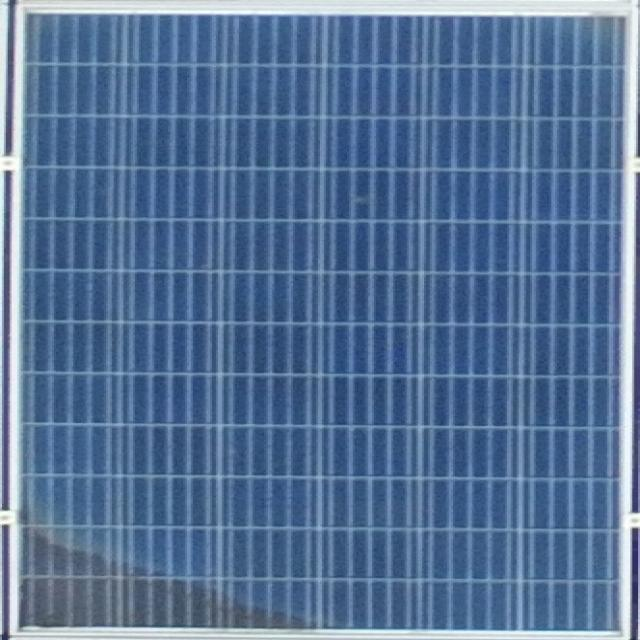Dust: (23, 515, 324, 632)
